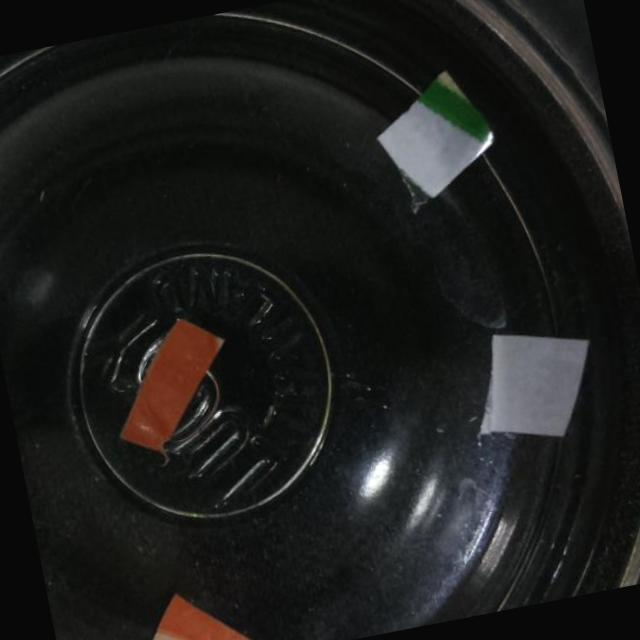fiber: (94, 300, 248, 459), (356, 61, 511, 212), (454, 314, 611, 456), (114, 571, 292, 640)
